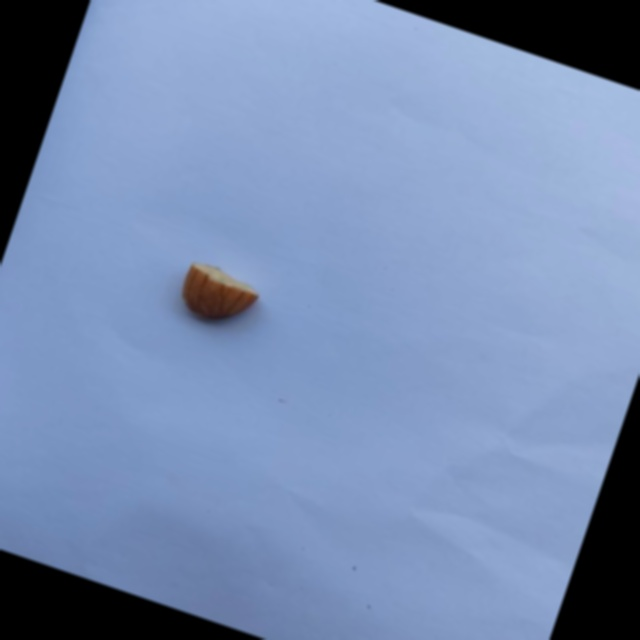grade4: (166, 253, 273, 341)
